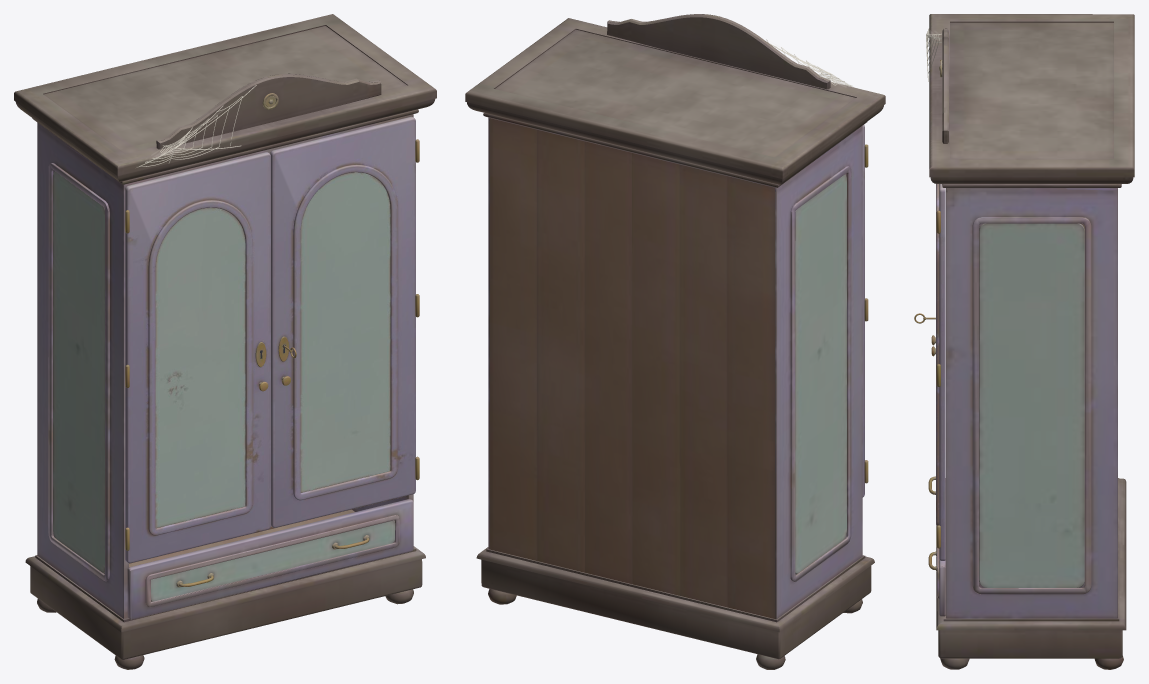
The model's file is old-wardrobe-light.glb.
3 renders of one model, left to right at view 1: azimuth 30°, elevation 25°; view 2: azimuth 150°, elevation 25°; view 3: azimuth 270°, elevation 25°, orthographic.
Parts seen in each view (by area): view 1: old-wardrobe_body, old-wardrobe_door_left, old-wardrobe_door_right, old-wardrobe_web; view 2: old-wardrobe_body, old-wardrobe_door_left; view 3: old-wardrobe_body, old-wardrobe_door_right.
Part boxes in pixels (x1=…): old-wardrobe_body: x1=14, y1=14, x2=436, y2=669; old-wardrobe_door_left: x1=125, y1=152, x2=270, y2=563; old-wardrobe_door_right: x1=270, y1=116, x2=415, y2=527; old-wardrobe_web: x1=137, y1=85, x2=256, y2=167; old-wardrobe_body: x1=465, y1=14, x2=885, y2=669; old-wardrobe_door_left: x1=862, y1=125, x2=864, y2=497; old-wardrobe_body: x1=928, y1=14, x2=1134, y2=669; old-wardrobe_door_right: x1=914, y1=184, x2=945, y2=560.
Bounding box in the file's own units: 1.23 × 2.06 × 0.7426.
Materials: 5 (3 with a texture image).
